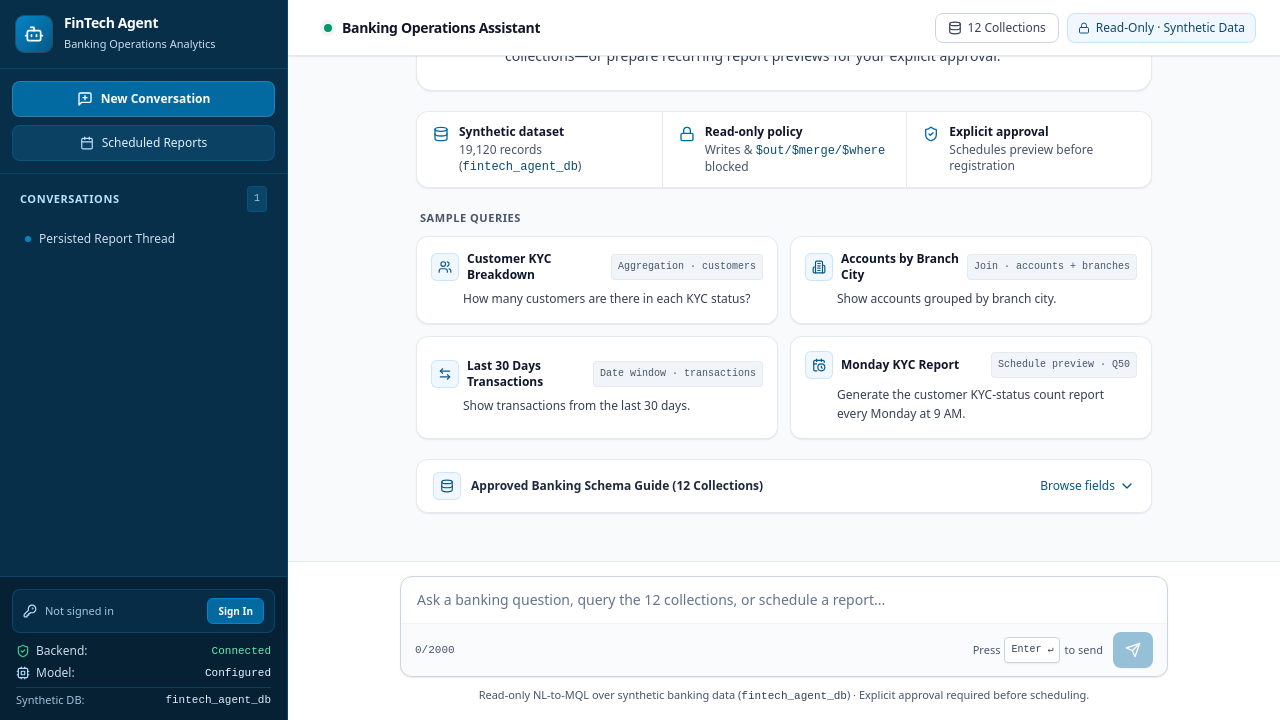
Test: FinTech Agent Frontend Chat Tests › 20. Selecting a persisted conversation restores MQL pipeline and schedule preview widgets safely alongside legacy messages
The image size is (1280, 720).
(page scrolled)
Click the button "Persisted Report Thread" at (126, 238), box [13, 222, 240, 254]
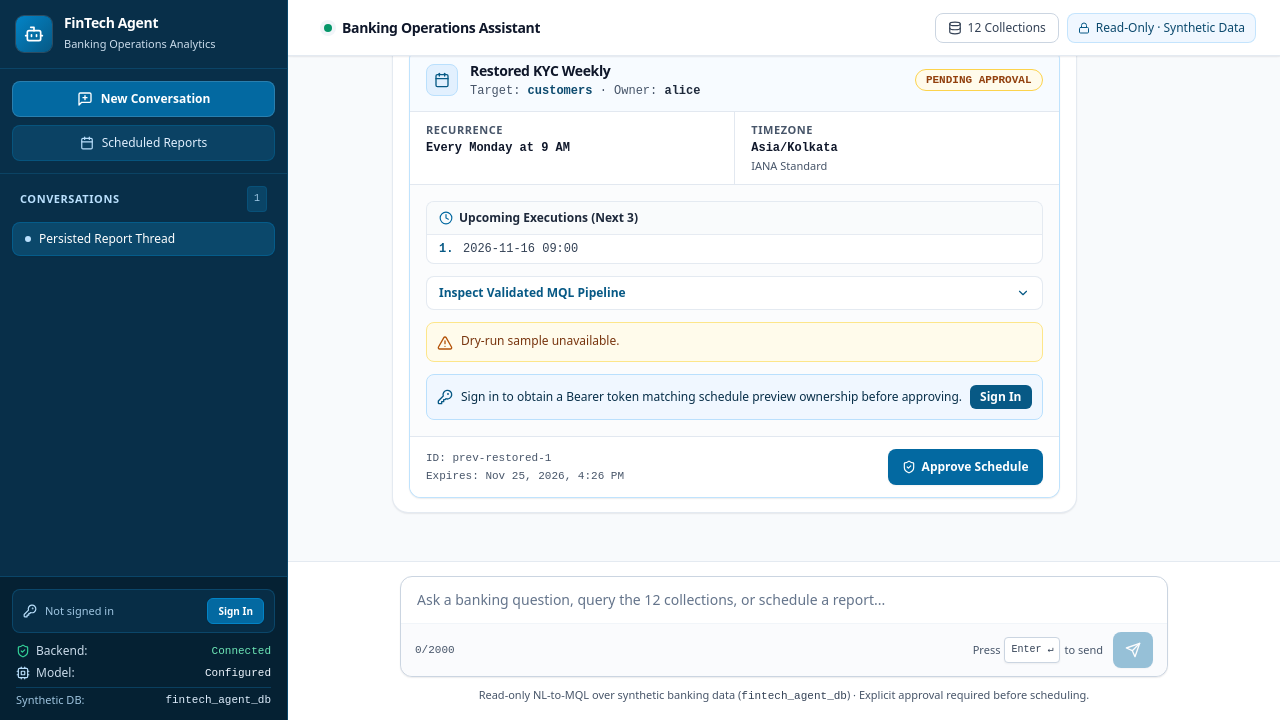
Expected: the heading "Restored KYC Weekly" is shown, [470, 61, 610, 80]
